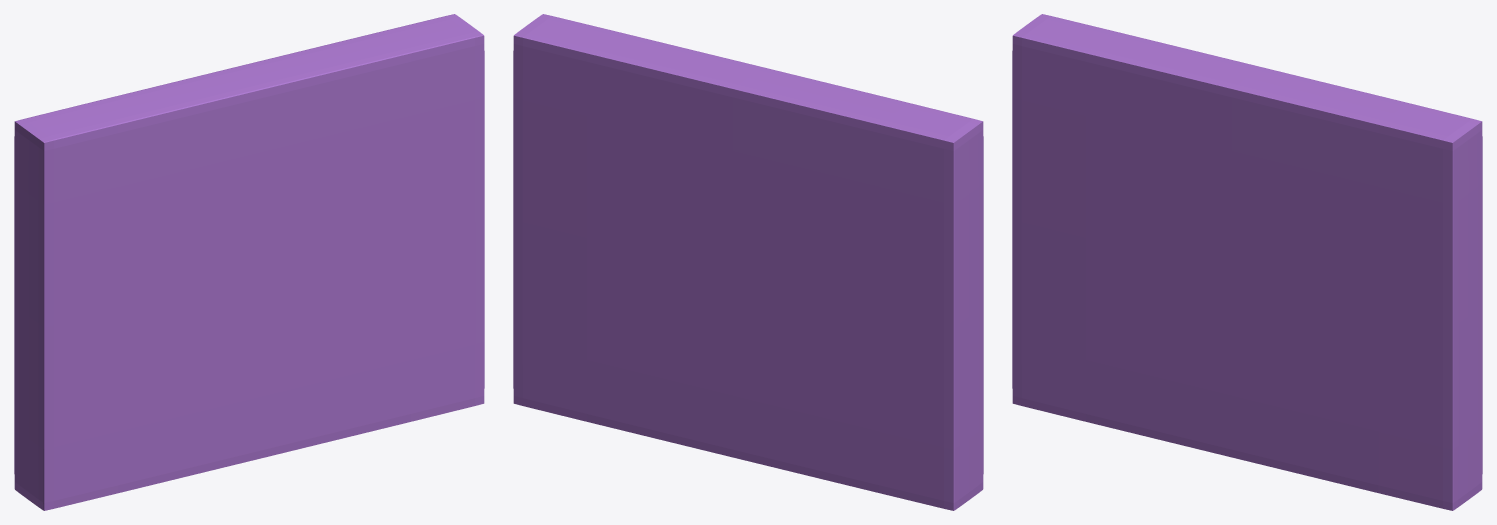
The model's file is Landmark_KnightShield_Hi_083906.fbx.
3 renders of one model, left to right at view 1: azimuth 30°, elevation 25°; view 2: azimuth 150°, elevation 25°; view 3: azimuth 330°, elevation 25°, orthographic.
Visible parts, largest first — view 1: Cube; view 2: Cube; view 3: Cube.
Boxes of the visible parts, left/top/right/bottom form: Cube: left=14, top=14, right=484, bottom=510; Cube: left=513, top=14, right=983, bottom=510; Cube: left=1012, top=14, right=1482, bottom=510.
Size of the model in its own units: 10 by 8 by 1.2.
